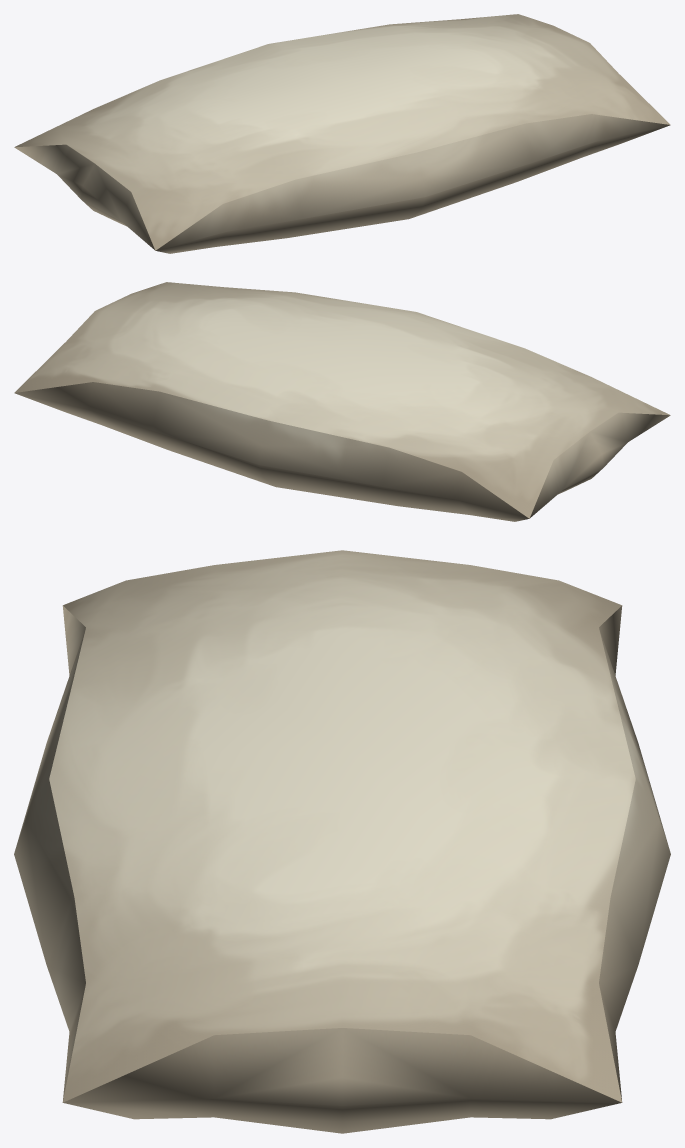
Rendered from Pillow.fbx.
The picture shows the model from 3 angles, top to bottom: view 1: azimuth 30°, elevation 25°; view 2: azimuth 150°, elevation 25°; view 3: azimuth 270°, elevation 25°; orthographic projection. The views are drawn at different scales.
Visible parts, largest first — view 1: pillow; view 2: pillow; view 3: pillow.
Boxes of the visible parts, left/top/right/bottom form: pillow: left=14, top=14, right=670, bottom=253; pillow: left=14, top=282, right=670, bottom=521; pillow: left=14, top=550, right=670, bottom=1133.
Size of the model in its own units: 87.73 by 48.34 by 17.32.
